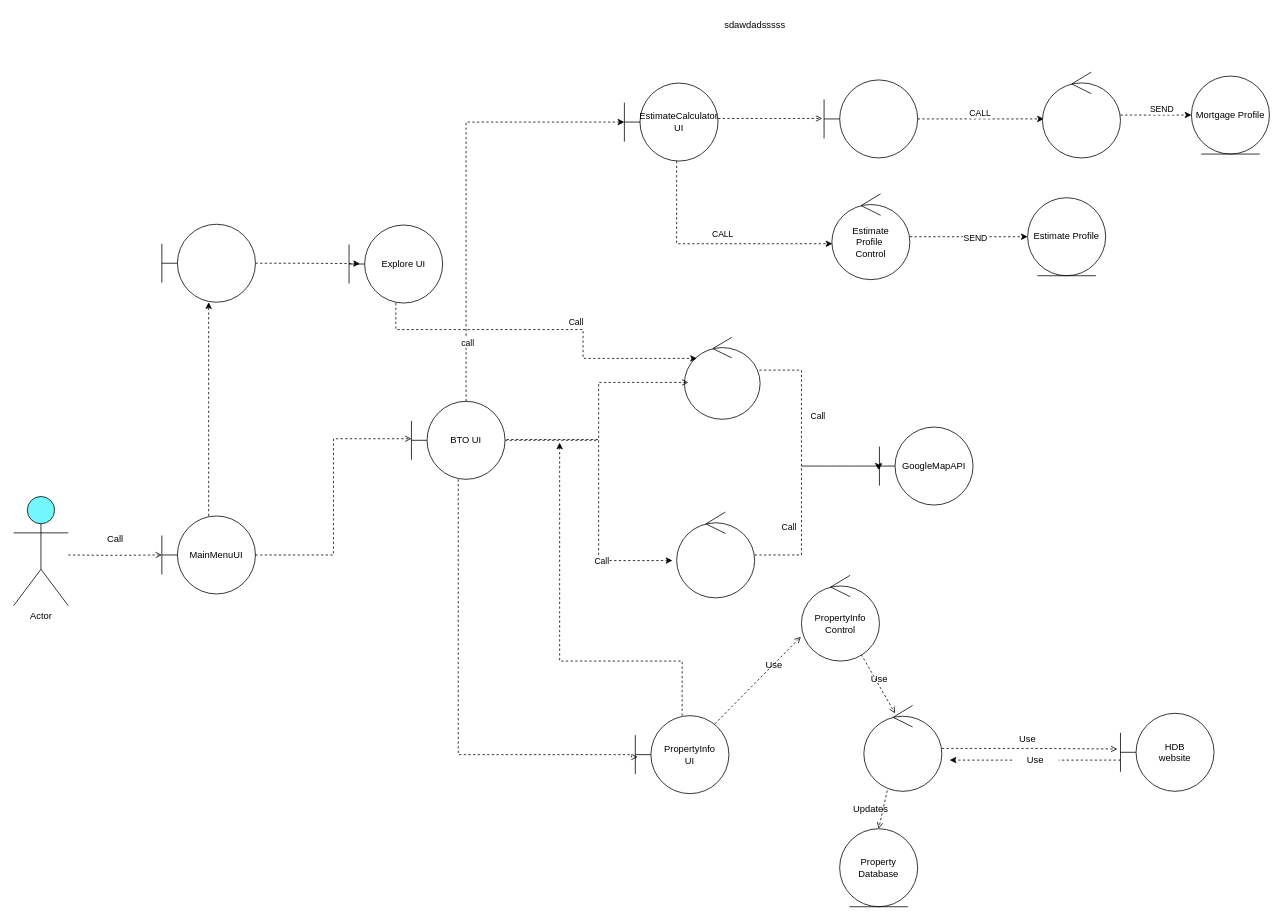
Some shapes in this 1283 by 920 pixel diagram are drawn without their labels. Each missing label, with the box of its shape:
Database Control: (863, 705, 942, 791)
Facilities Info Control: (676, 511, 755, 598)
Map control: (684, 337, 760, 419)
Mortgage Profile Control: (1042, 71, 1120, 158)
MortgageCalculator UI: (823, 79, 918, 158)
Selection UI: (161, 223, 255, 302)
